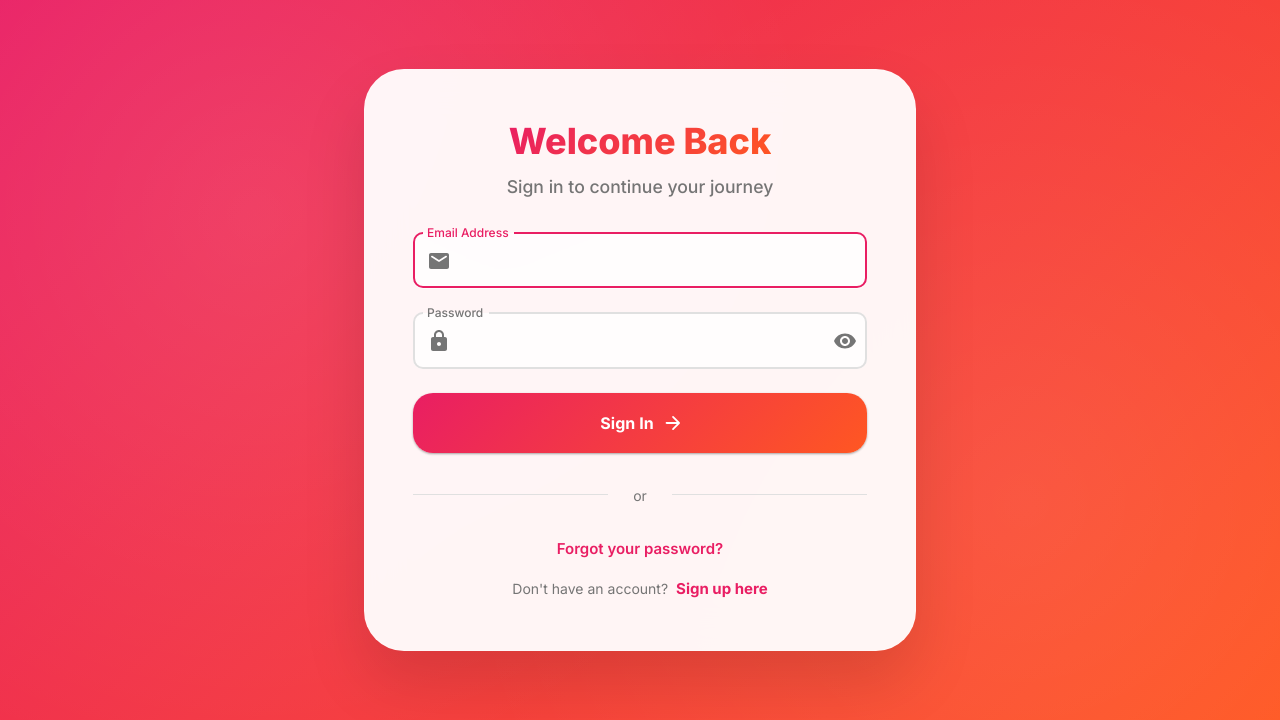
Test: Login Page › shows error message on login failure
The image size is (1280, 720).
Type "wrong@example.com" into the field named "email" at [663, 261], box [459,233,867,289]
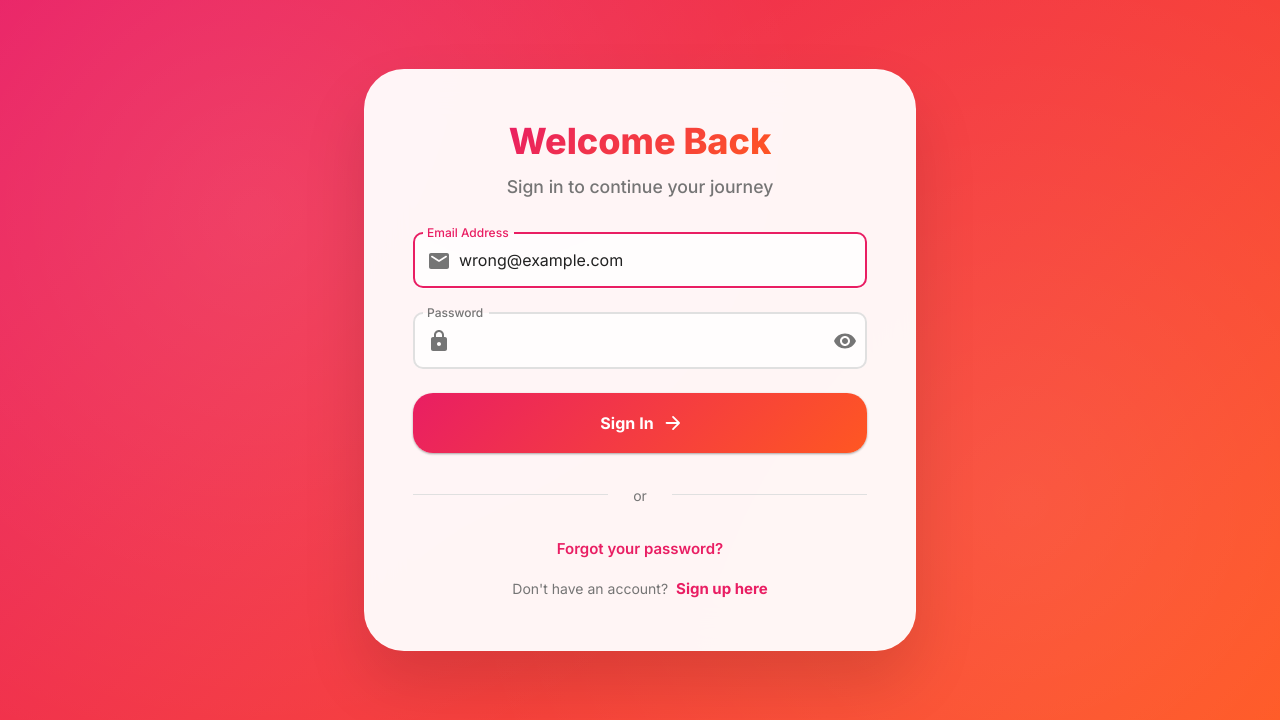
Type "wrongpassword" into the password field named "password" at [638, 341], box [459,313,817,369]
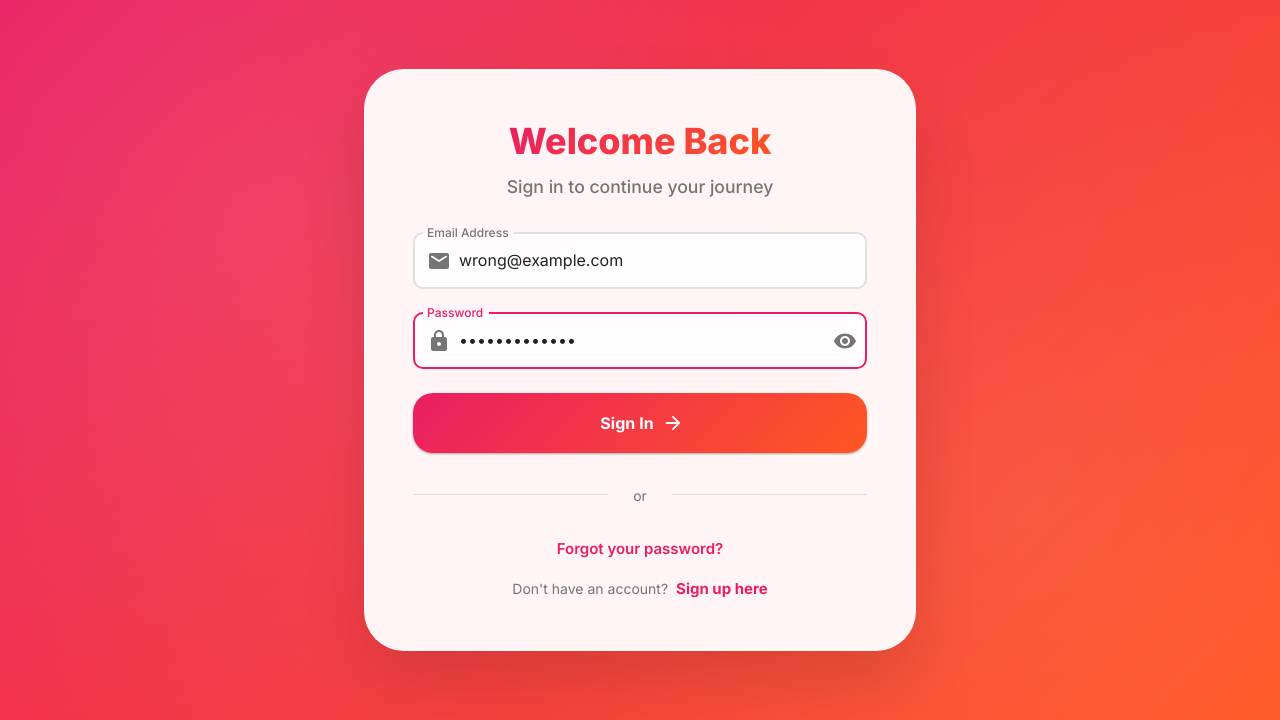
Click the button "Sign In" at [640, 423], box [413,393,867,453]
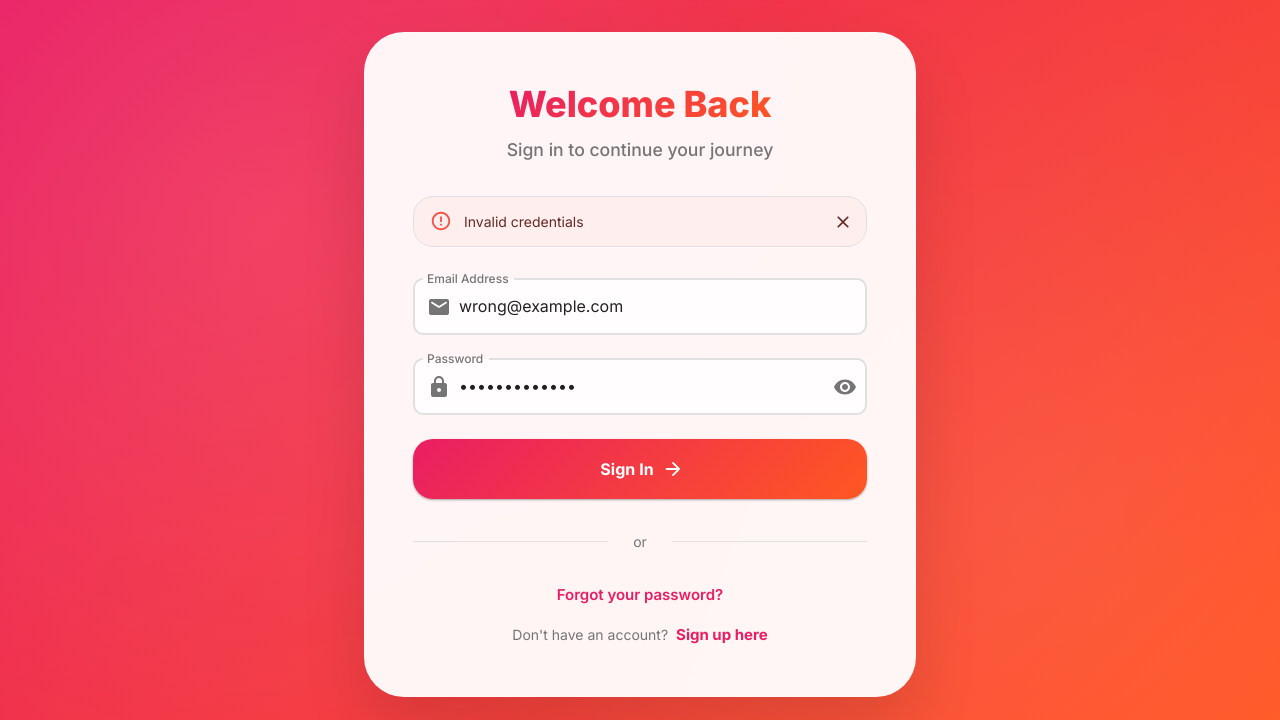
Expected: the text "Invalid credentials" is shown, [464,213,584,230]
